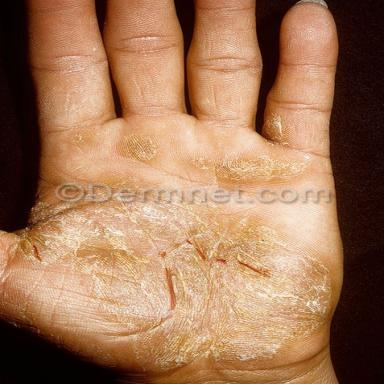eczema: (2, 202, 332, 372), (191, 152, 310, 185), (117, 133, 158, 162), (263, 112, 289, 146), (69, 129, 96, 146)
